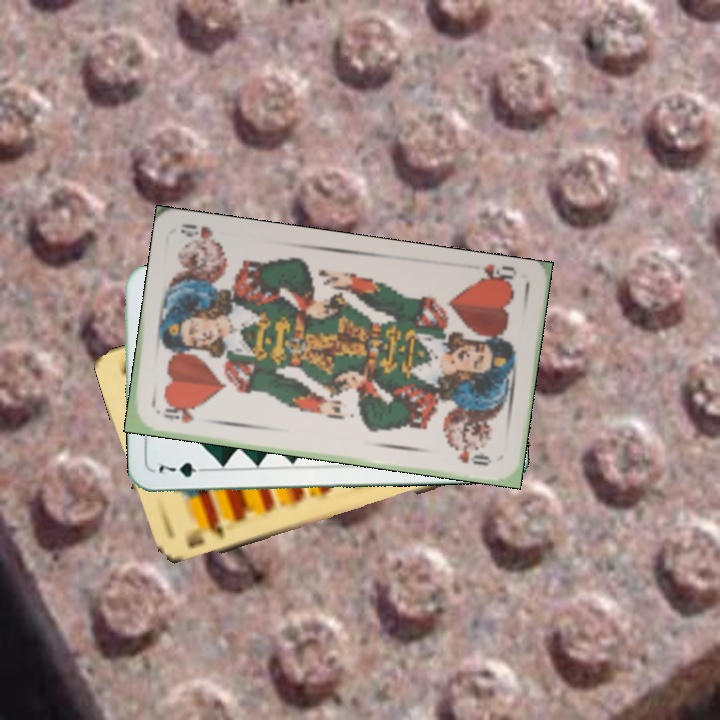E10: (182, 518, 227, 552)
G7: (155, 458, 212, 480)
HO: (468, 260, 520, 291), (159, 403, 199, 426)
